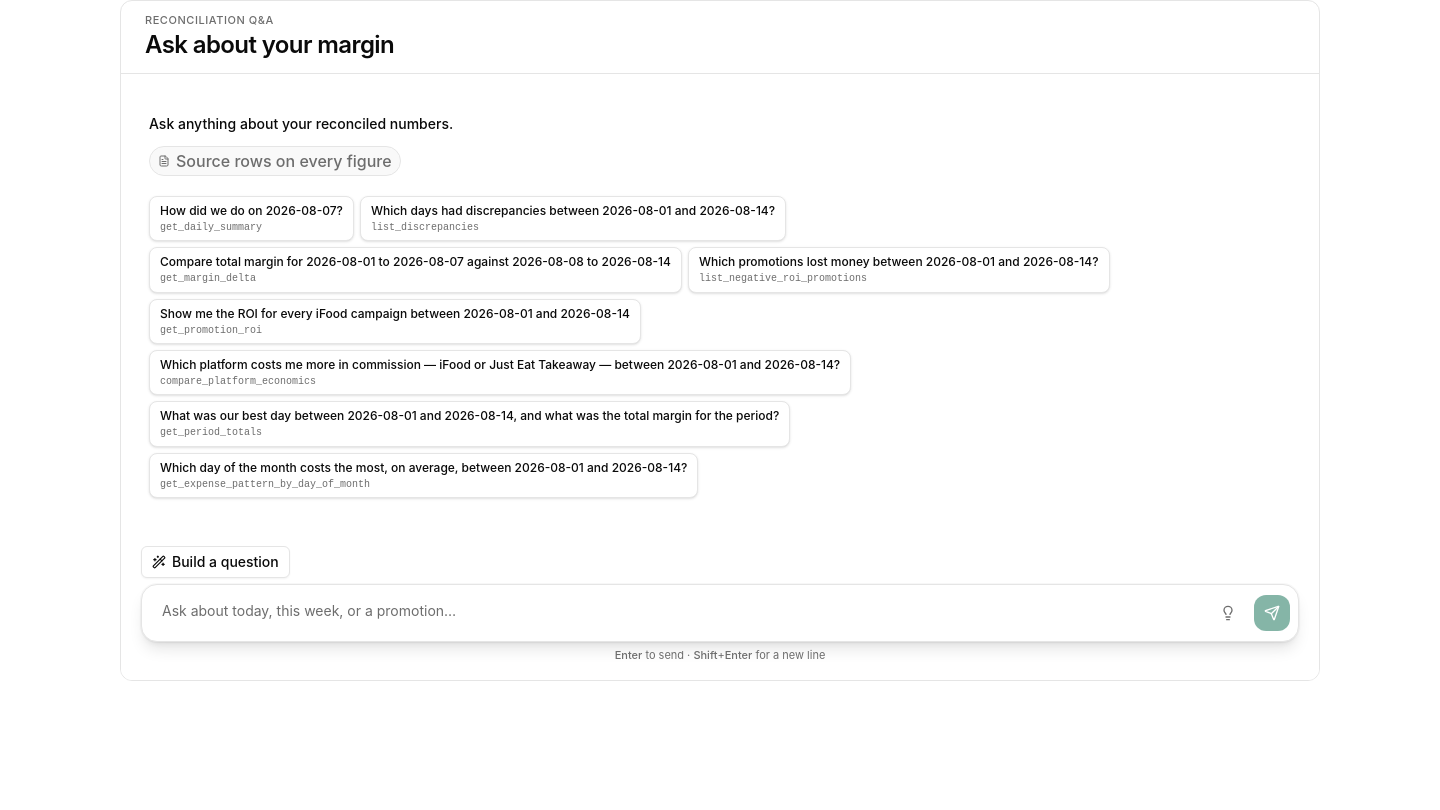
Test case: ChatPanel › surfaces a failed request as a connection error distinct from a refusal, and retries it
In the text box named "ask a question about your margin": [676, 613] box x1=150 y1=593 x2=1202 y2=633, type "How did we do on 2026-08-07?"
Then press Enter
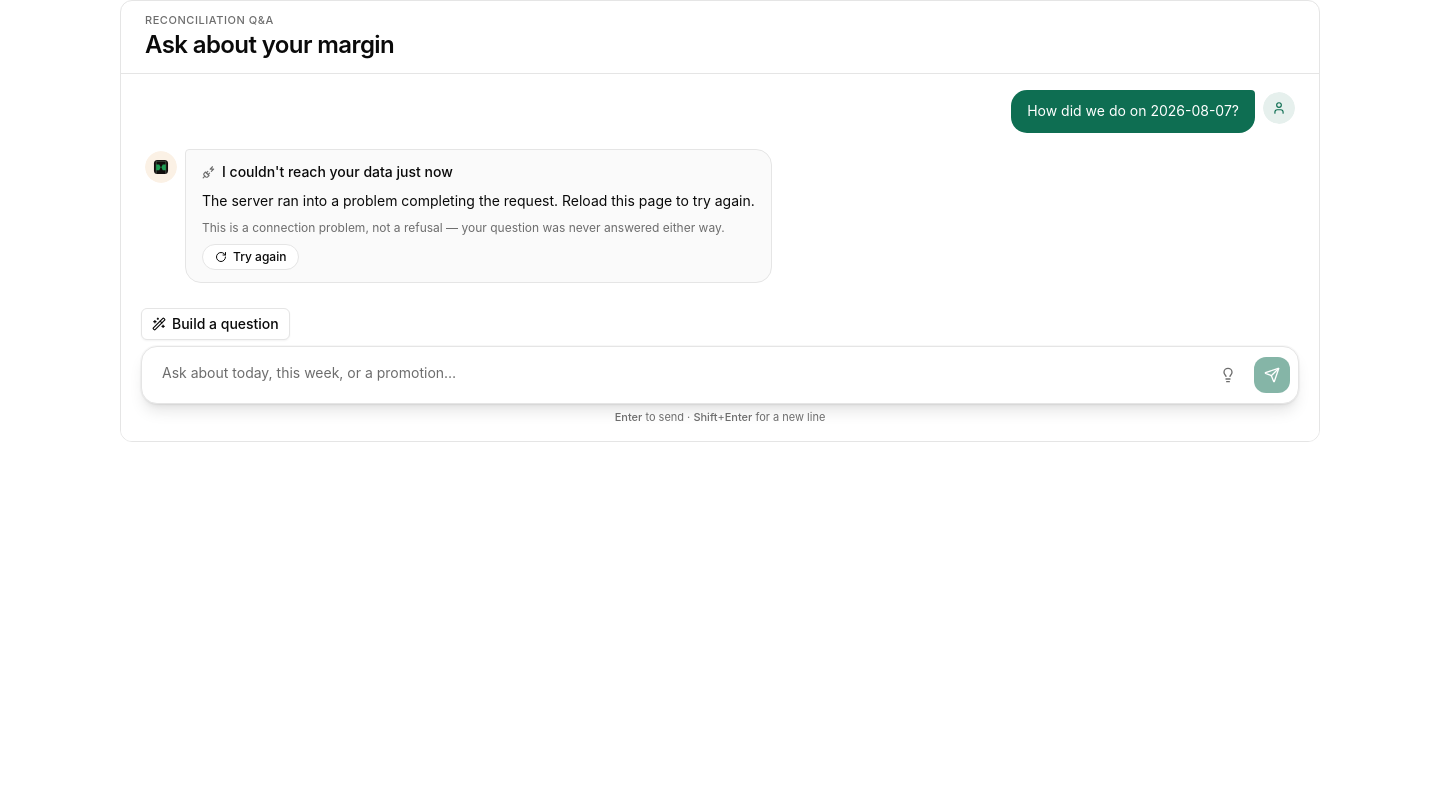
Check: the text "I couldn't reach your data just now" is shown, box x1=202 y1=163 x2=453 y2=180
Check: the text "Reload this page" is shown, box x1=202 y1=192 x2=755 y2=209
Click the button "Try again": [251, 257] box x1=202 y1=244 x2=299 y2=270
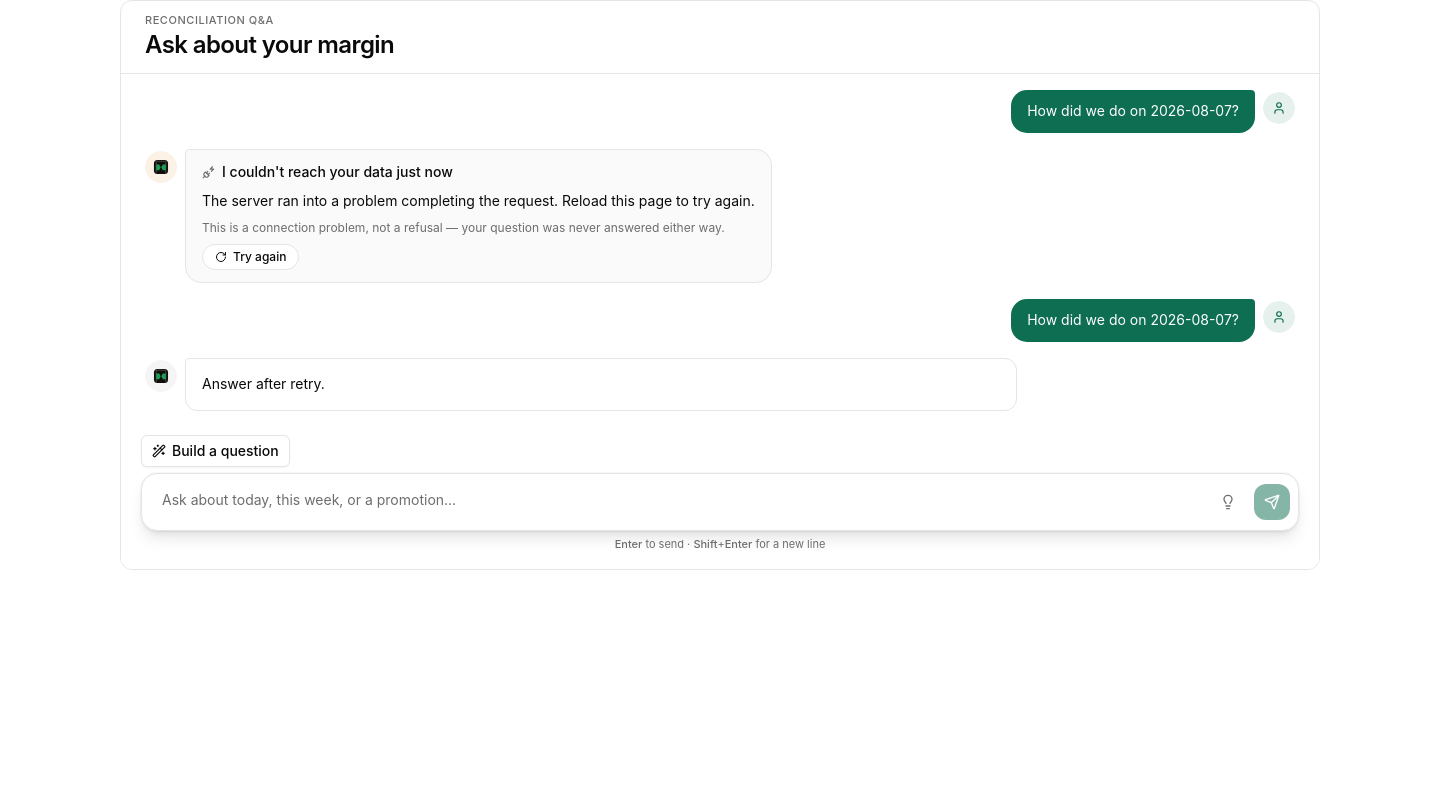
Check: the text "Answer after retry." is shown, box x1=202 y1=375 x2=325 y2=392
